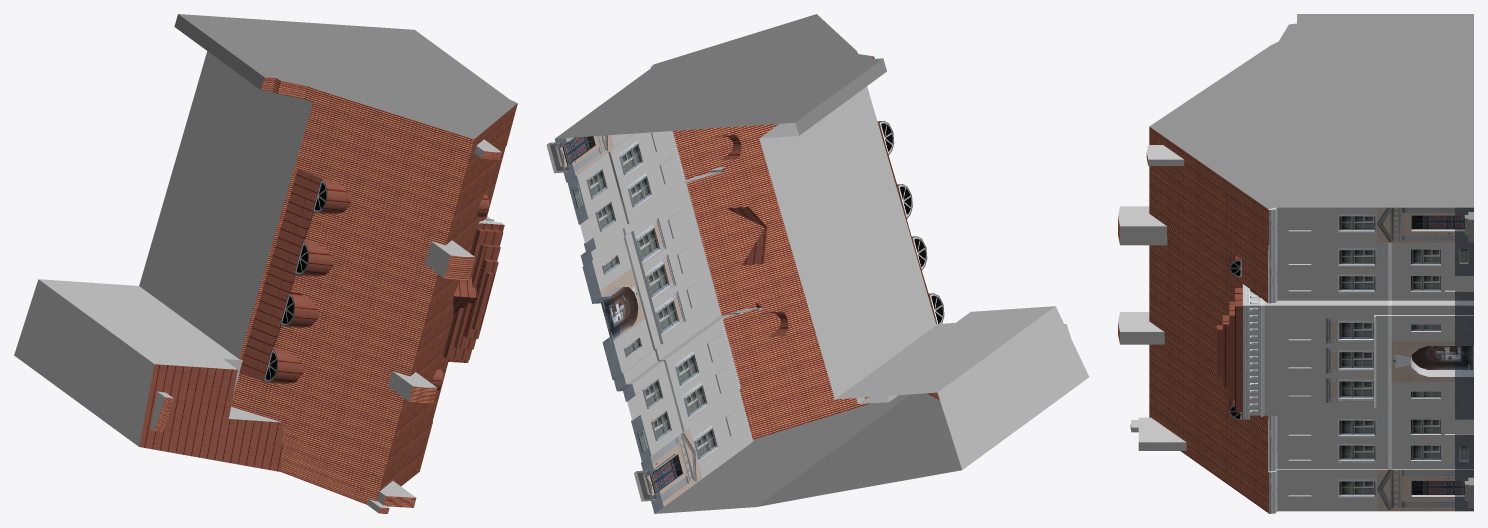
Rendered from Lai_43_1.obj.
3 views of the same model, side by side, from view 1: azimuth 30°, elevation 25°; view 2: azimuth 150°, elevation 25°; view 3: azimuth 270°, elevation 25° (orthographic). The views are drawn at different scales.
Parts seen in each view (by area): view 1: Lai_43_1; view 2: Lai_43_1; view 3: Lai_43_1.
Part boxes in pixels (<box>): Lai_43_1: <box>14,14,517,513</box>; Lai_43_1: <box>546,14,1089,513</box>; Lai_43_1: <box>1118,14,1473,513</box>.
Size of the model in its own units: 32.41 by 31.78 by 23.88.
